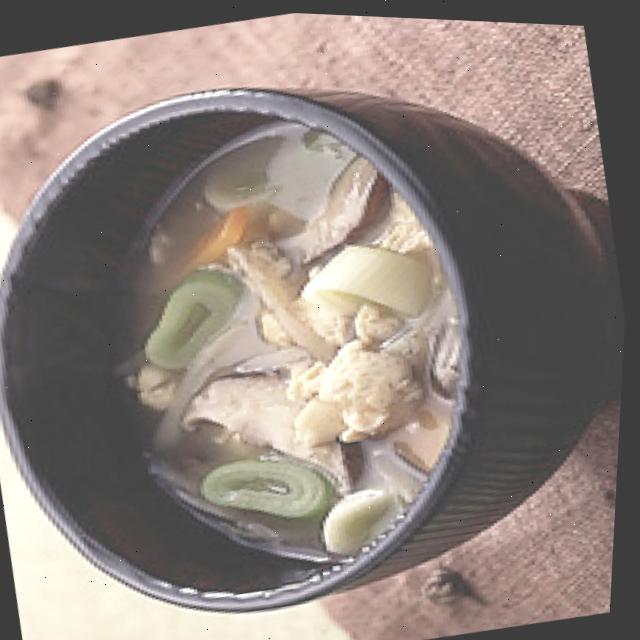蔬菜料理: (0, 35, 584, 640)
